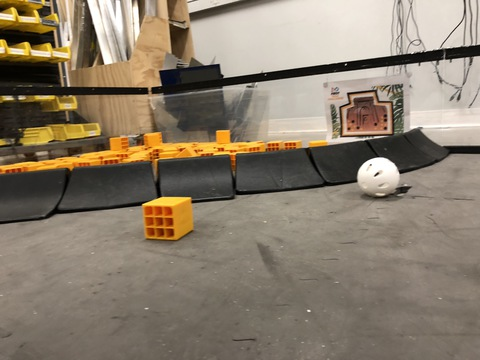ball: (350, 155, 404, 199)
block: (130, 190, 199, 242)
